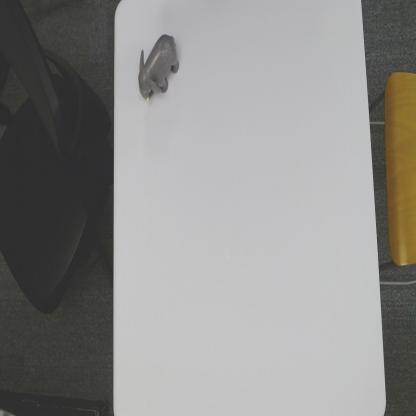Elephant: (137, 32, 181, 104)
